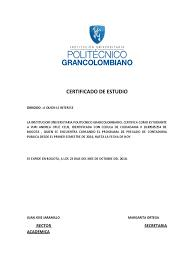firma: (114, 197, 172, 232), (22, 197, 68, 222)
institucion: (57, 44, 140, 71)
